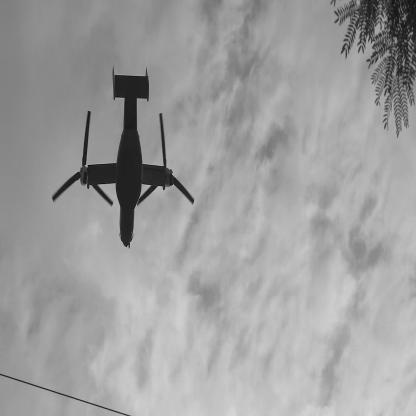V22: (53, 66, 196, 250)
